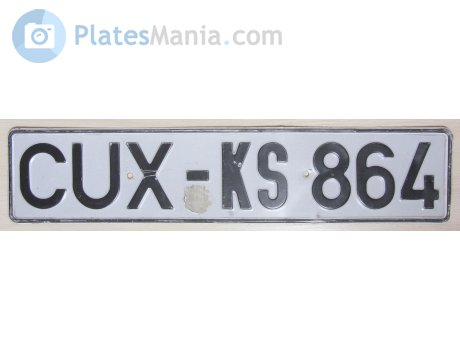License Plates: (24, 138, 433, 212)
